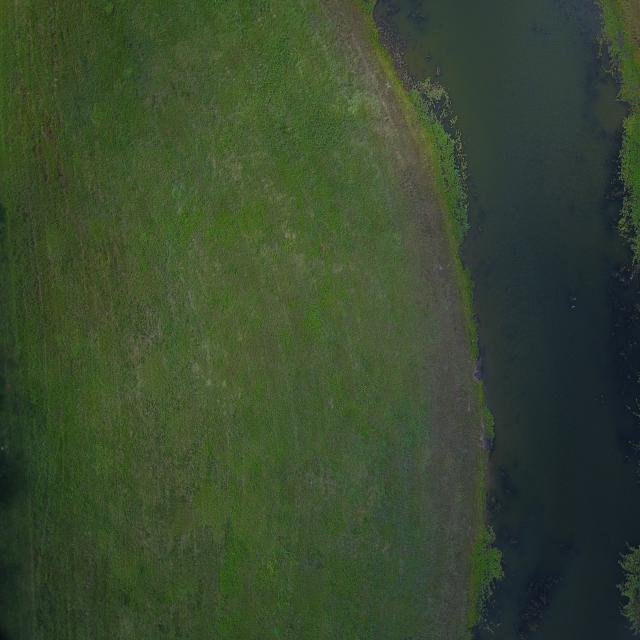fire: (375, 0, 640, 639)
